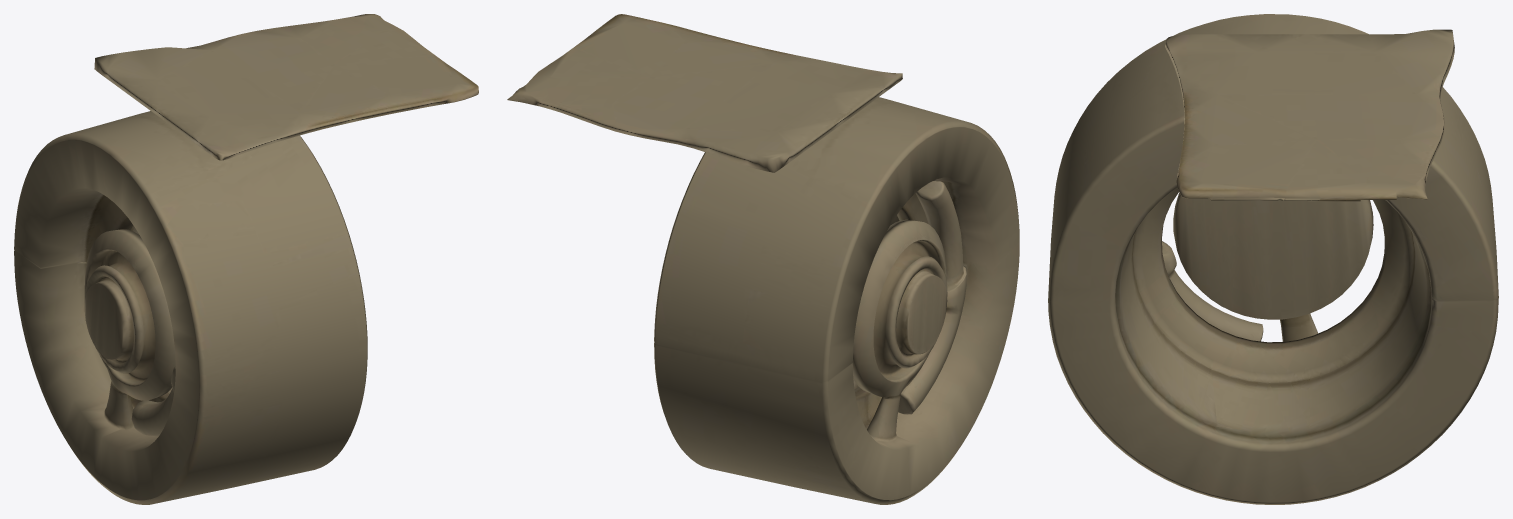
3 views of the same model, side by side, from view 1: azimuth 30°, elevation 25°; view 2: azimuth 150°, elevation 25°; view 3: azimuth 270°, elevation 25° (orthographic). The views are drawn at different scales.
Bounding box in the file's own units: 0.9692 × 0.9995 × 0.9692.
Materials: 1 (1 with a texture image).
